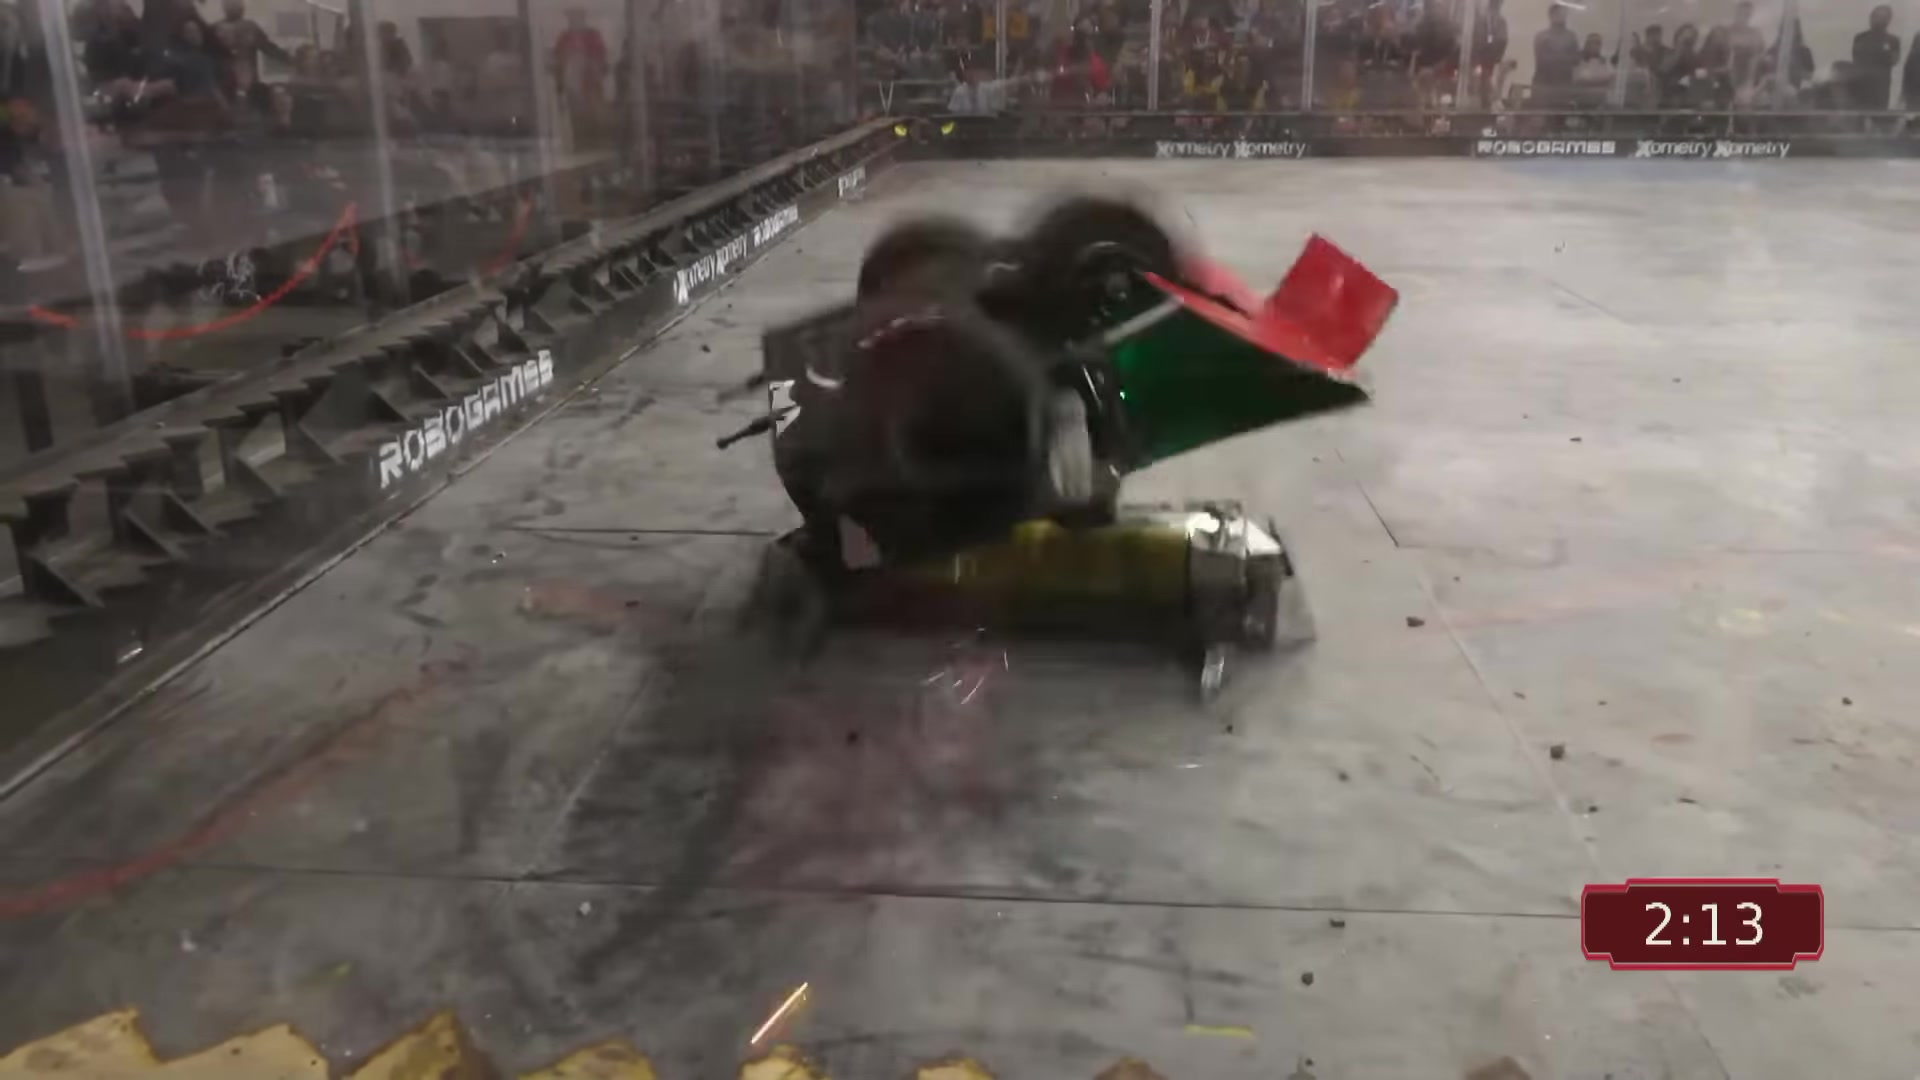combatbot: (719, 194, 1396, 509), (762, 498, 1333, 691)
